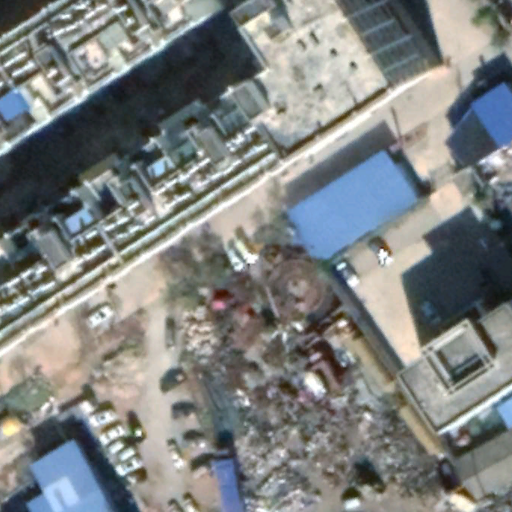msw: (180, 298, 434, 512)
